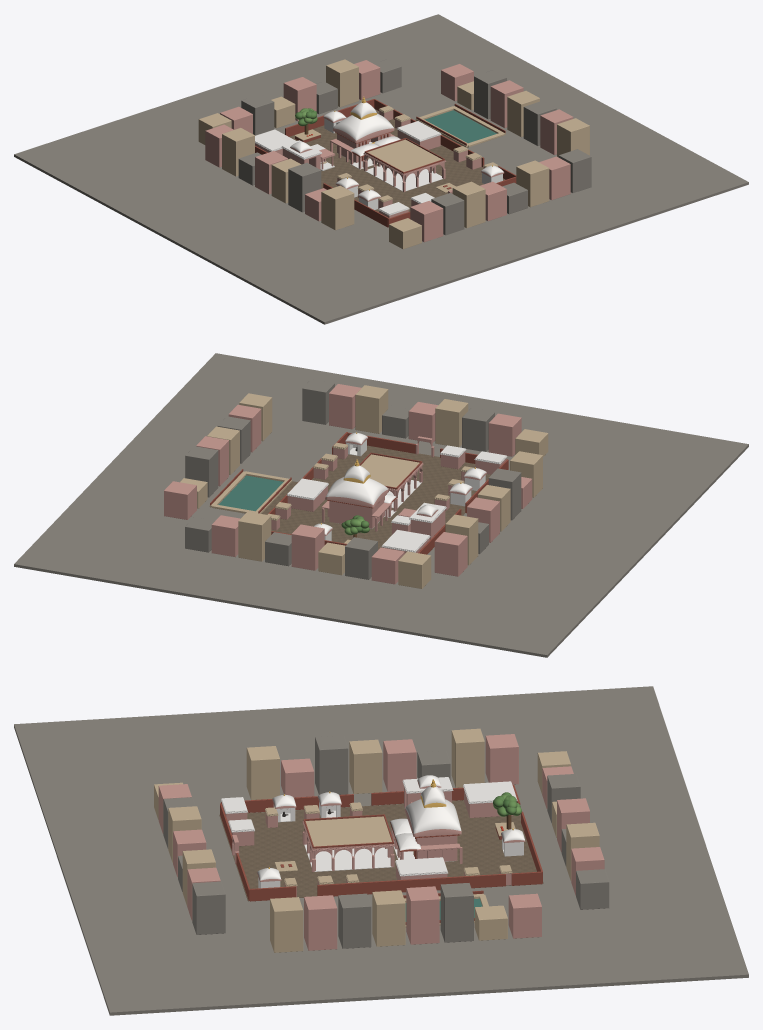
File: kalighat_kshetra_full.glb
The picture shows the model from 3 angles, top to bottom: view 1: azimuth 30°, elevation 25°; view 2: azimuth 150°, elevation 25°; view 3: azimuth 270°, elevation 25°; orthographic projection. The views are drawn at different scales.
Parts seen in each view (by area): view 1: Ground_UrbanContext, Court_Paving, Context_Urban_Terrace, Natmandir_Roof_Deck, Context_Urban_Terrace.022, Context_Urban_Terrace.031, Context_Urban_Terrace.002, Kundupukur_Water, Kalika_Lower_Aatchala_Roof, Context_Urban_Terrace.006, Context_Urban_Terrace.019, Context_Urban_Terrace.008 (+26 smaller); view 2: Ground_UrbanContext, Court_Paving, Context_Urban_Terrace.031, Context_Urban_Terrace.022, Context_Urban_Terrace.007, Kundupukur_Water, Kalika_Lower_Aatchala_Roof, Context_Urban_Terrace.029, Context_Urban_Terrace.019, Context_Urban_Terrace.013, Context_Urban_Terrace.017, Natmandir_Roof_Deck (+28 smaller); view 3: Ground_UrbanContext, Court_Paving, Natmandir_Roof_Deck, Compound_EastWall, Context_Urban_Terrace.013, Context_Urban_Terrace.002, Context_Urban_Terrace.012, Context_Urban_Terrace.006, Context_Urban_Terrace.011, Context_Urban_Terrace.008, Context_Urban_Terrace.009, Context_Urban_Terrace.010 (+28 smaller).
Part boxes in pixels (x1,y1,x2,y2): Ground_UrbanContext: [14, 14, 748, 324]; Court_Paving: [289, 109, 504, 212]; Context_Urban_Terrace: [321, 185, 354, 230]; Natmandir_Roof_Deck: [367, 139, 441, 171]; Context_Urban_Terrace.022: [516, 160, 549, 207]; Context_Urban_Terrace.031: [326, 59, 358, 107]; Context_Urban_Terrace.002: [288, 162, 321, 212]; Kundupukur_Water: [425, 110, 496, 143]; Kalika_Lower_Aatchala_Roof: [332, 113, 394, 143]; Context_Urban_Terrace.006: [222, 128, 254, 176]; Context_Urban_Terrace.019: [452, 181, 485, 228]; Context_Urban_Terrace.008: [557, 118, 589, 157]; Ground_UrbanContext: [14, 353, 748, 657]; Court_Paving: [271, 445, 490, 549]; Context_Urban_Terrace.031: [238, 511, 271, 561]; Context_Urban_Terrace.022: [355, 385, 388, 433]; Context_Urban_Terrace.007: [434, 532, 467, 576]; Kundupukur_Water: [218, 475, 283, 511]; Kalika_Lower_Aatchala_Roof: [325, 477, 388, 507]; Context_Urban_Terrace.029: [291, 524, 324, 570]; Context_Urban_Terrace.019: [435, 399, 468, 447]; Context_Urban_Terrace.013: [185, 446, 218, 497]; Context_Urban_Terrace.017: [488, 413, 521, 456]; Natmandir_Roof_Deck: [360, 454, 419, 487]; Ground_UrbanContext: [14, 686, 748, 1015]; Court_Paving: [219, 800, 543, 901]; Natmandir_Roof_Deck: [305, 816, 391, 846]; Compound_EastWall: [317, 874, 505, 896]; Context_Urban_Terrace.013: [440, 883, 473, 942]; Context_Urban_Terrace.002: [315, 735, 348, 794]; Context_Urban_Terrace.012: [406, 886, 439, 944]; Context_Urban_Terrace.006: [451, 728, 484, 787]; Context_Urban_Terrace.011: [372, 890, 405, 946]; Context_Urban_Terrace.008: [270, 897, 303, 952]; Context_Urban_Terrace.009: [304, 895, 337, 950]; Context_Urban_Terrace.010: [338, 893, 371, 948].
Bounding box in the file's own units: 141 × 15.06 × 134.
33 materials, 1 textured.
